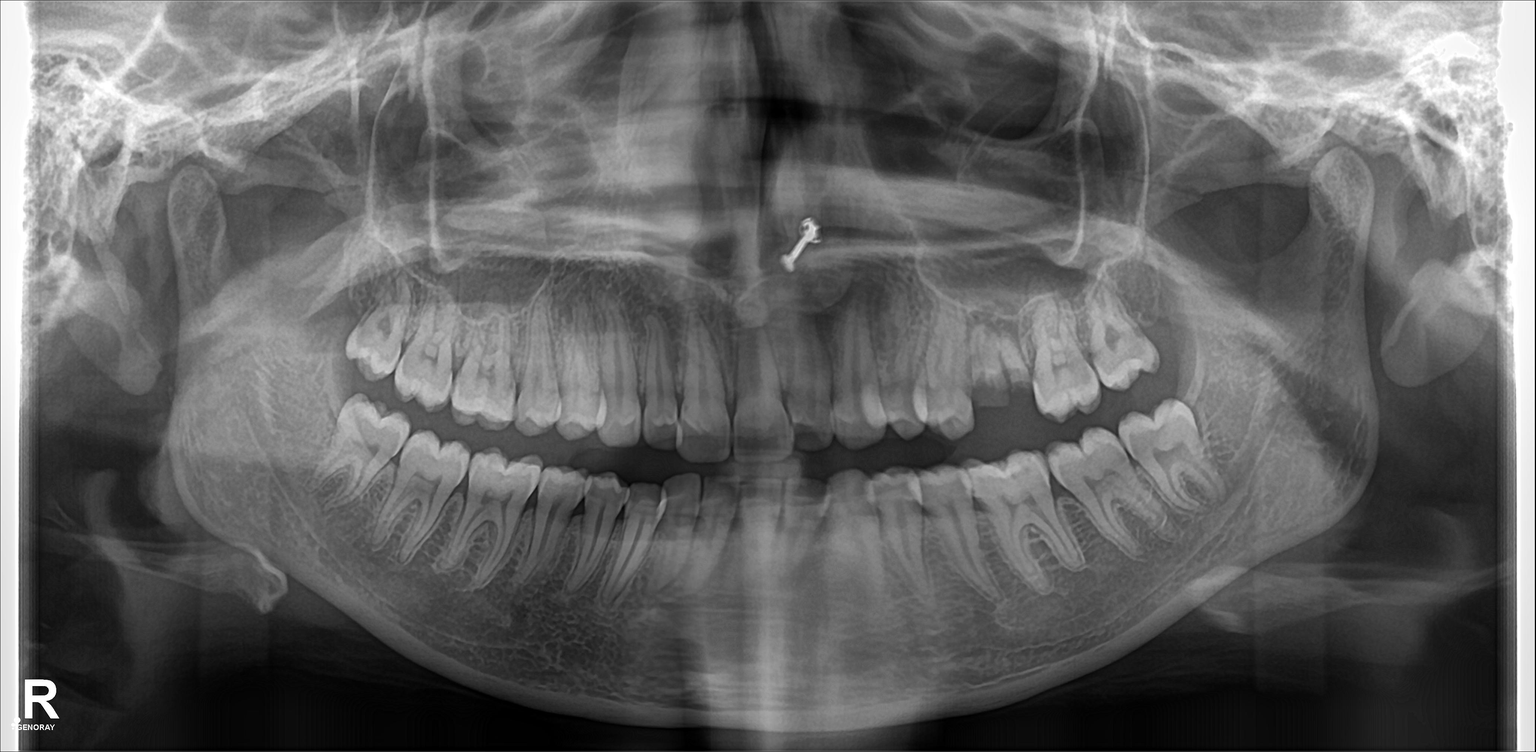Impacted Third Molar: (328, 396, 404, 500)
Tooth Fracture: (968, 322, 1024, 420)
